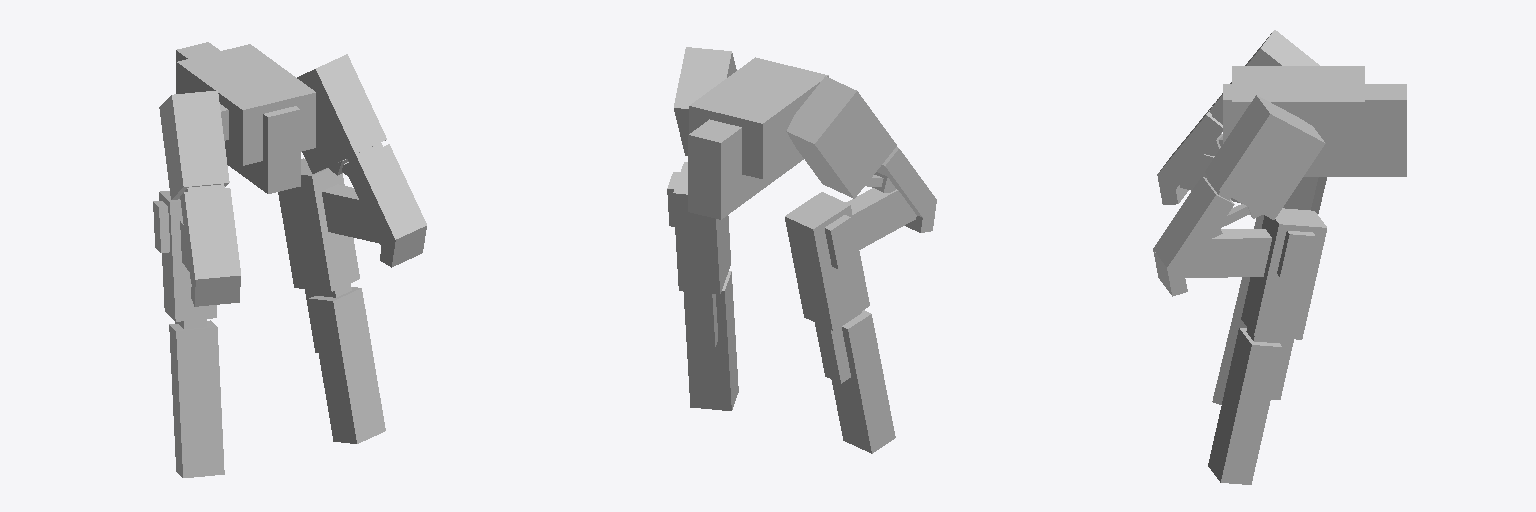
File: ref_mech.obj
3 renders of one model, left to right at view 1: azimuth 30°, elevation 25°; view 2: azimuth 150°, elevation 25°; view 3: azimuth 270°, elevation 25°, orthographic.
Visible parts, largest first — view 1: c2, c14, c18, c13, c4, c23, c5, c21, c1, c17, c11, c22 (+2 smaller); view 2: c2, c23, c17, c1, c18, c13, c14, c4, c20, c21, c16, c15 (+1 smaller); view 3: c4, c2, c14, c13, c1, c5, c11, c21, c23, c12, c18, c17 (+3 smaller).
Boxes of the visible parts, box(x1,y1,x2,y2) form: c2: box(177, 44, 315, 165); c14: box(309, 287, 385, 443); c18: box(169, 320, 224, 477); c13: box(278, 158, 359, 291); c4: box(297, 54, 386, 173); c23: box(159, 90, 229, 199); c5: box(343, 144, 426, 246); c21: box(180, 188, 240, 283); c1: box(176, 42, 300, 193); c17: box(159, 191, 216, 321); c11: box(322, 184, 379, 243); c22: box(191, 276, 240, 306); c2: box(689, 57, 828, 178); c23: box(786, 76, 896, 198); c17: box(785, 192, 869, 330); c1: box(688, 119, 803, 219); c18: box(831, 310, 895, 453); c13: box(673, 162, 730, 294); c14: box(683, 271, 738, 410); c4: box(674, 47, 736, 155); c20: box(846, 188, 916, 249); c21: box(877, 147, 936, 217); c16: box(815, 312, 861, 383); c15: box(689, 292, 717, 347); c4: box(1205, 95, 1325, 219); c2: box(1232, 66, 1364, 156); c14: box(1208, 328, 1282, 484); c13: box(1241, 208, 1326, 339); c1: box(1223, 84, 1406, 176); c5: box(1153, 176, 1234, 277); c11: box(1186, 229, 1271, 277); c21: box(1157, 98, 1222, 189); c23: box(1209, 30, 1319, 122); c12: box(1277, 231, 1315, 278); c18: box(1212, 277, 1249, 404); c17: box(1254, 177, 1326, 228).
Bounding box in the file's own units: 3.51 × 5.38 × 3.36.